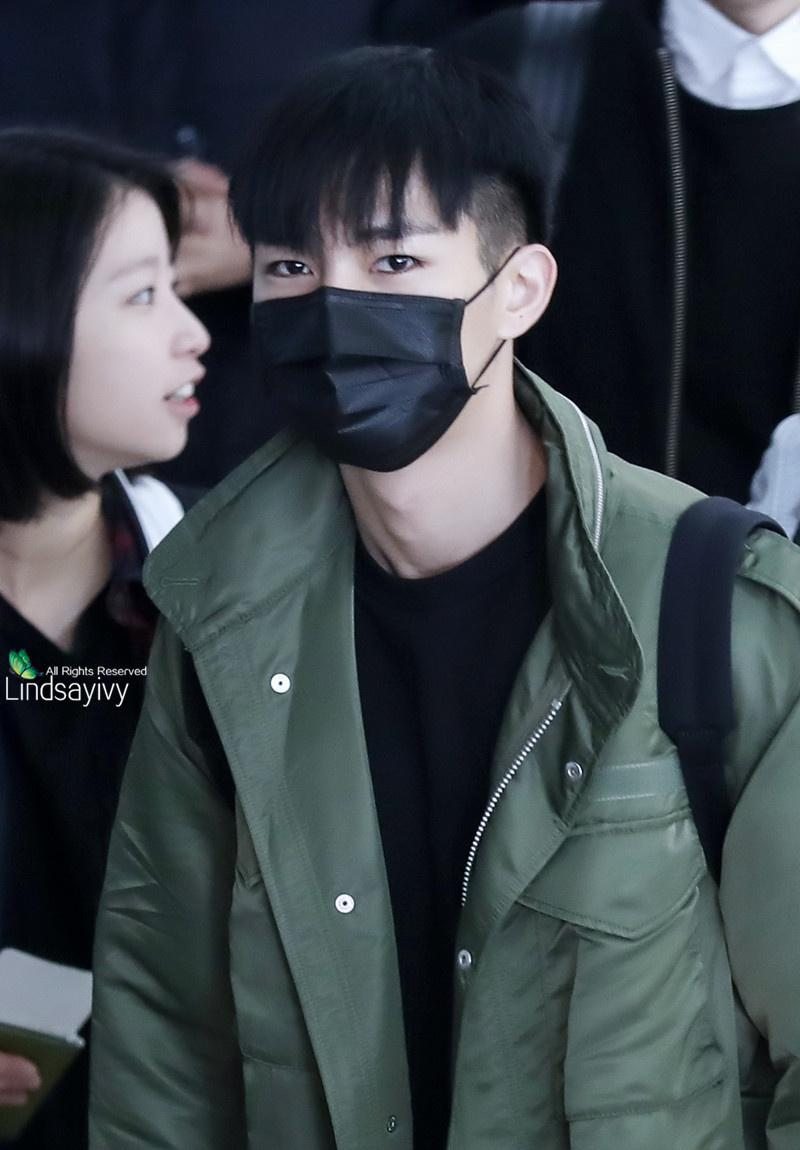NONE: (72, 269, 212, 461)
OK: (244, 188, 523, 467)
